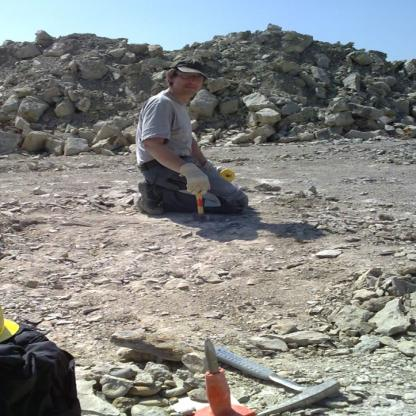person: (121, 42, 258, 227)
